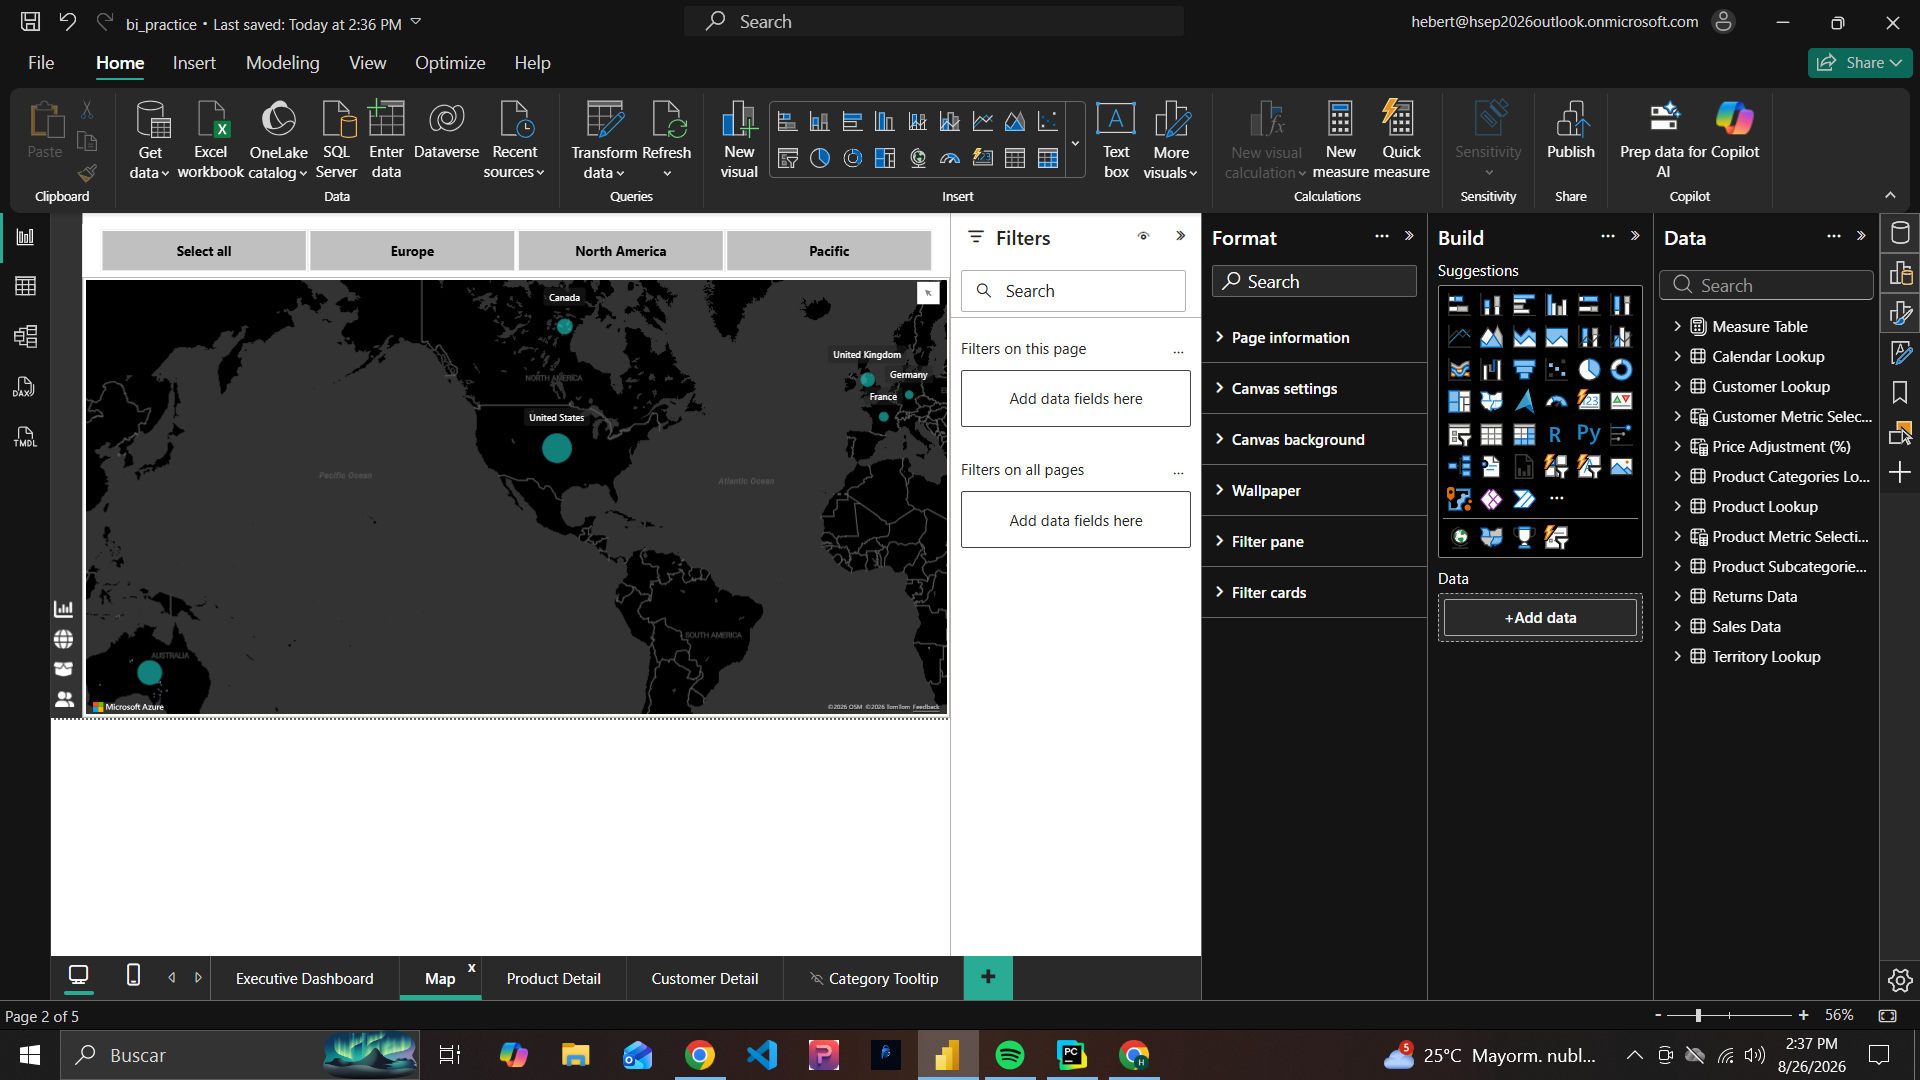

This screenshot's page, from the dashboard's own definition file:
{"tool":"powerbi","page":{"name":"Map","canvas":[1280,720],"ordinal":1},"visuals":[{"type":"shape","box":[0,0,45,720],"z":0},{"type":"azureMap","fields":{"Category":["Territory Lookup.Country"],"Size":["Measure Table.Total Orders"]},"box":[44.2,90.8,1235.6,628.2],"z":1000},{"type":"actionButton","box":[0,588.9,44.5,35.6],"z":1000,"group":"g1"},{"type":"slicer","fields":{"Values":["Territory Lookup.Continent"]},"box":[44.7,15.9,1235,75],"z":2000},{"type":"actionButton","box":[0,546,44.5,35.6],"z":2000,"group":"g1"},{"type":"group","id":"g1","title":"Navigation Buttons","box":[0,546,44.5,164.4],"z":3000},{"type":"actionButton","box":[0,631.9,44.5,35.6],"z":3000,"group":"g1"},{"type":"actionButton","box":[1.4,674.8,41.7,35.6],"z":4000,"group":"g1"}]}

Visuals, with their boxes on the page's 1280x720 design canvas (x1, y1, x2, y2). These are canvas units, not pixel positions in the 1920x1080 screenshot, which may show the page scaled, cropped or inside an application window:
shape: BBox(0, 0, 45, 720)
azureMap - Territory Lookup.Country x Measure Table.Total Orders: BBox(44, 91, 1280, 719)
actionButton: BBox(0, 589, 44, 624)
slicer - Territory Lookup.Continent: BBox(45, 16, 1280, 91)
actionButton: BBox(0, 546, 44, 582)
"Navigation Buttons" group: BBox(0, 546, 44, 710)
actionButton: BBox(0, 632, 44, 668)
actionButton: BBox(1, 675, 43, 710)
